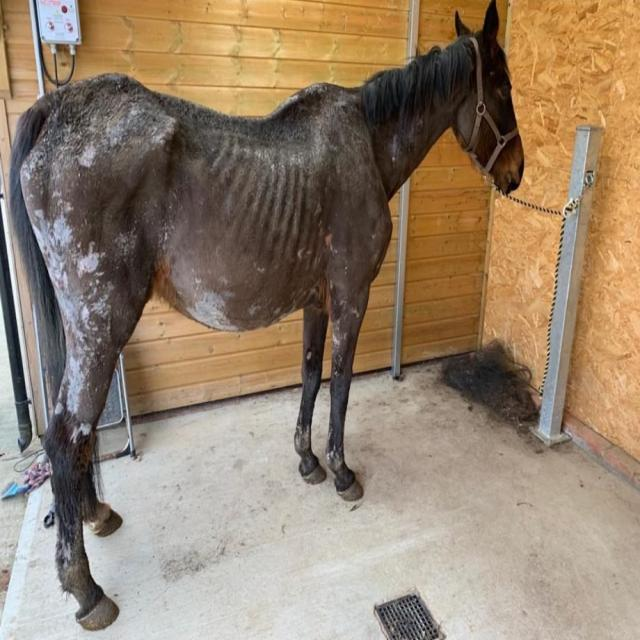Horse: (20, 22, 532, 612)
